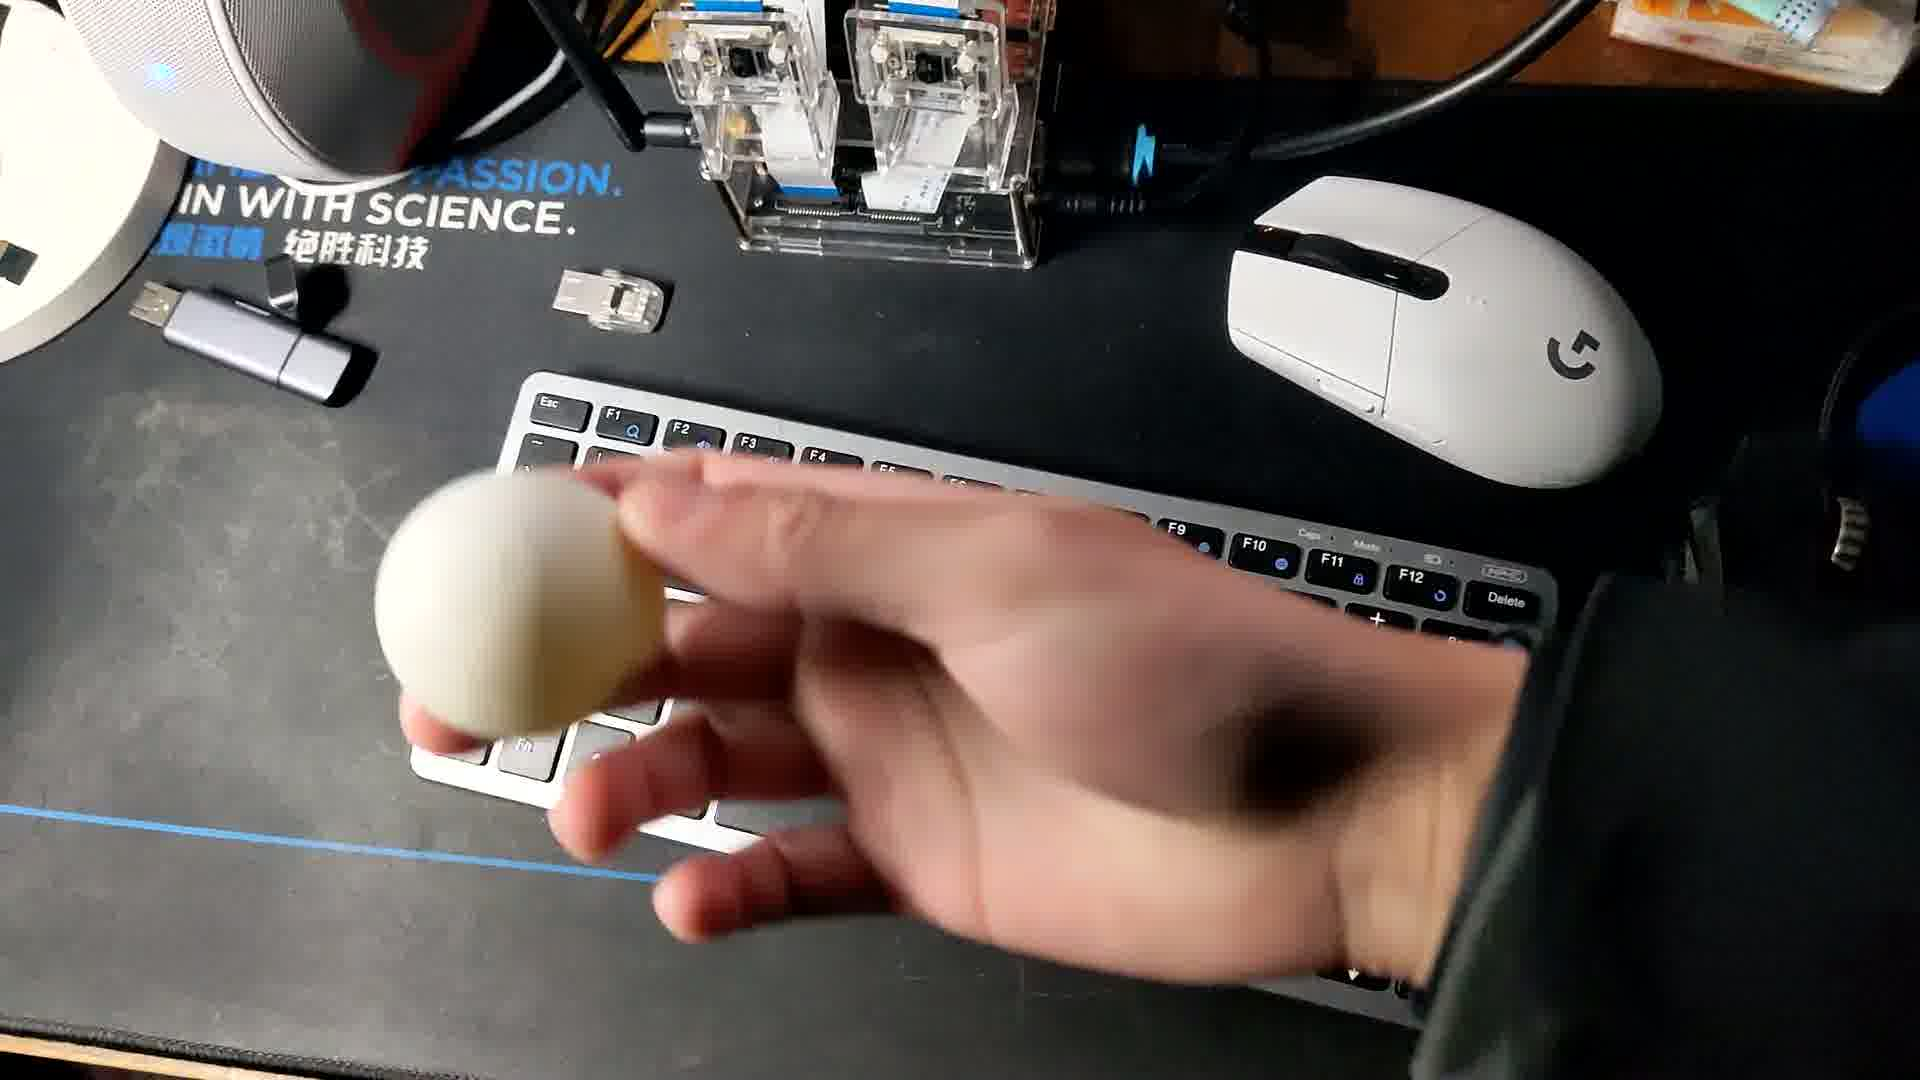Ball: (378, 468, 667, 741)
